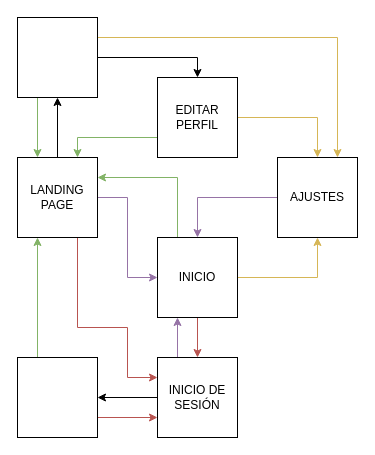
Image size: 375x455. Some labels were removed from this diagram. Here are the shapes that lost their labels. From the top down, the centre of each, then its label:
At point (57, 57): "PERFIL".
At point (57, 397): "REGISTRO".
